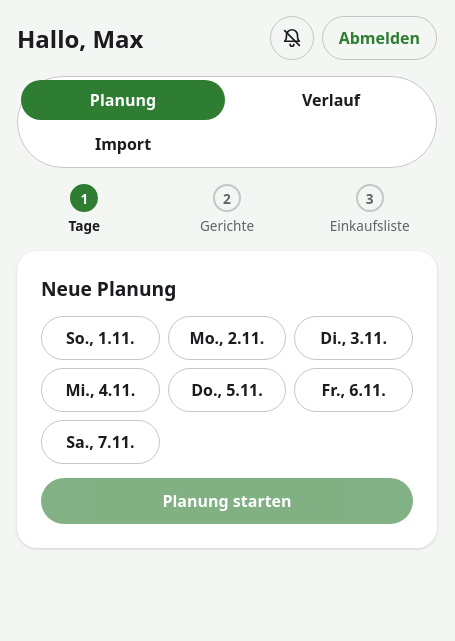
Scenario: notifications switch › gives the subscription back when the server could not store it, so the phone is not left half way
Click the button named "Benachrichtigungen an".
click(292, 38)  # box [270,16,314,60]
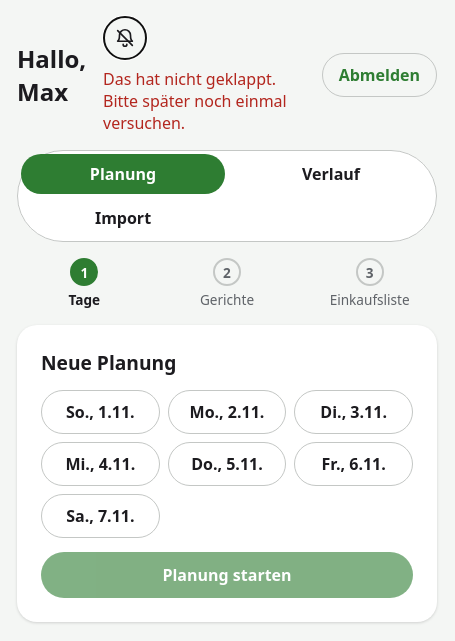
Expected: the button named "Benachrichtigungen an" is shown, [103,16,147,60]
Now the message shows "nicht geklappt", box [103,68,287,134]
